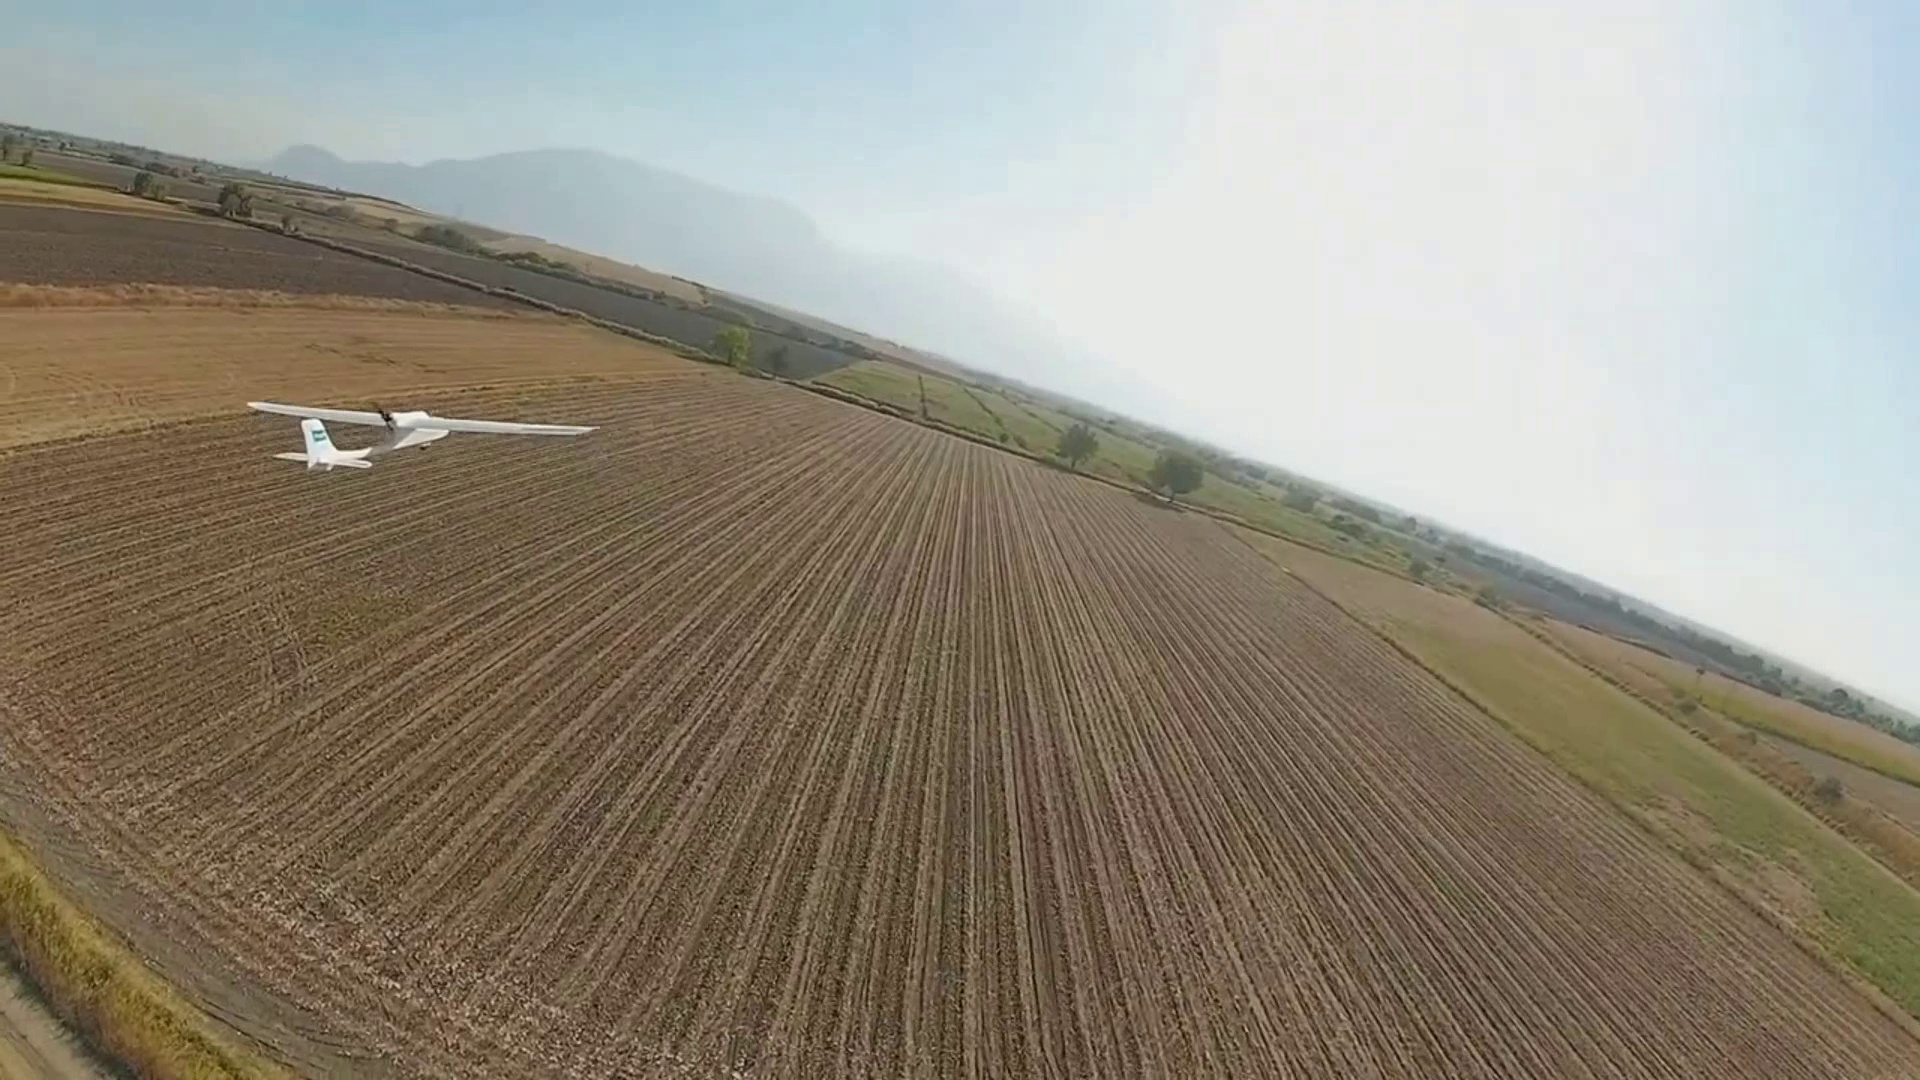airplane: (232, 402, 600, 462), (248, 398, 446, 471), (248, 404, 402, 473)
